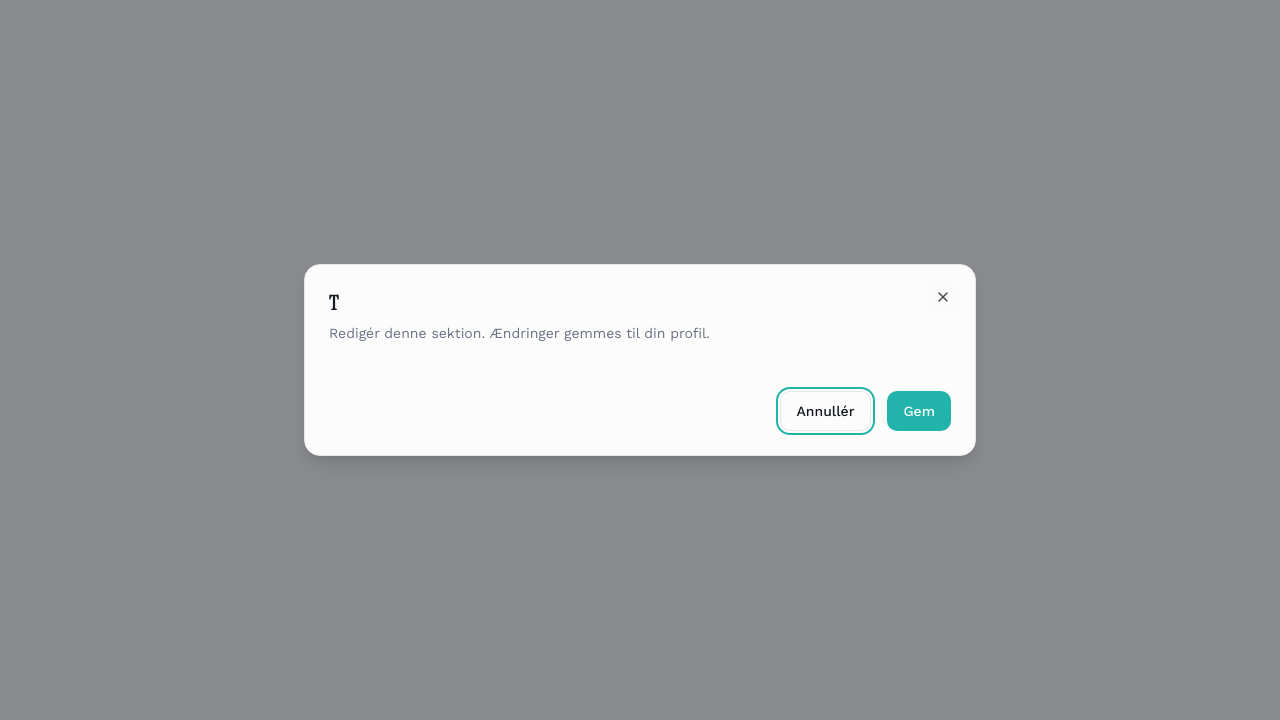
SectionEditDialog › asks for discard confirmation when dirty
Later steps or results of the test are not shown.
Click the button "Annullér" at (826, 411), box x1=780 y1=391 x2=872 y2=431
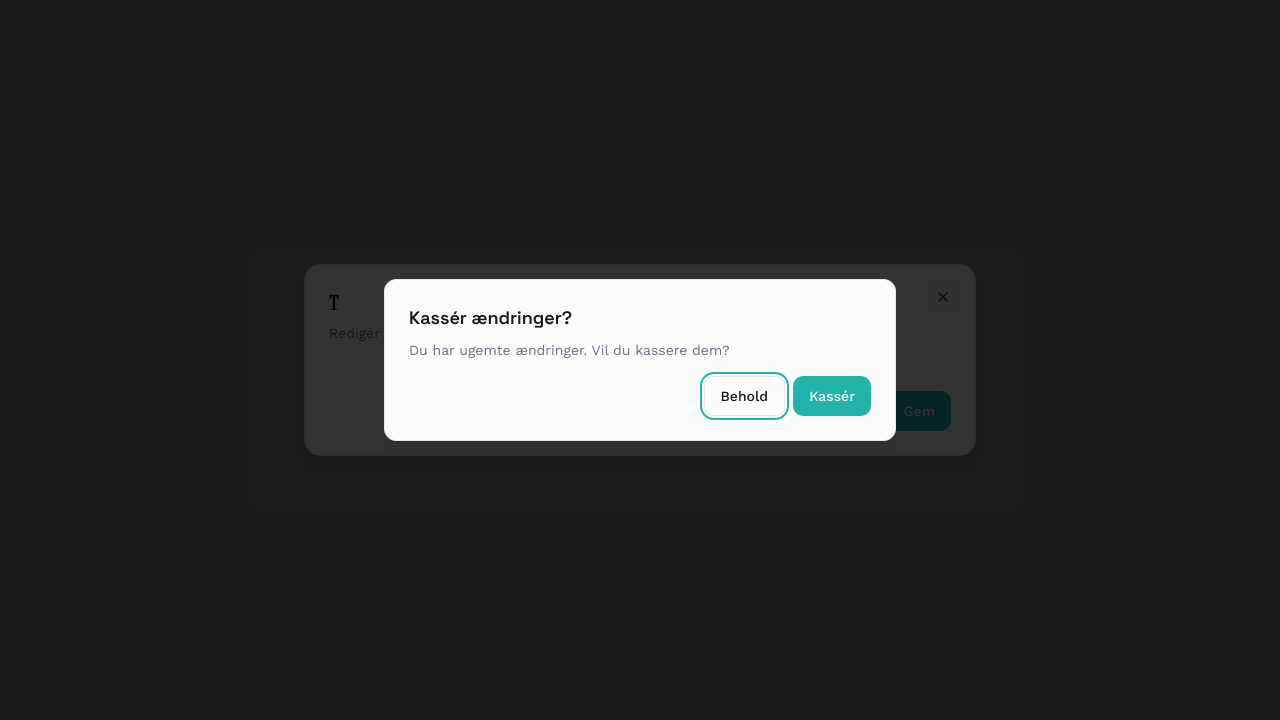
Expected: the heading "Kassér ændringer?" is shown, x1=409 y1=306 x2=572 y2=329
